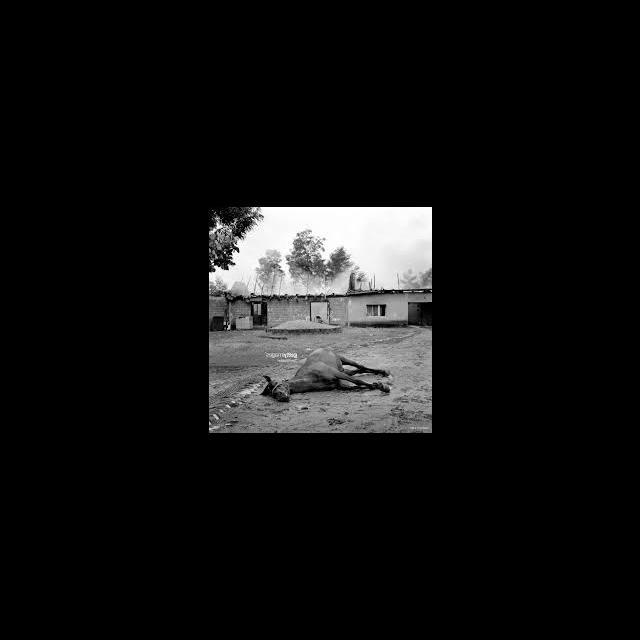Smoke: (362, 220, 427, 269), (272, 272, 344, 292)
